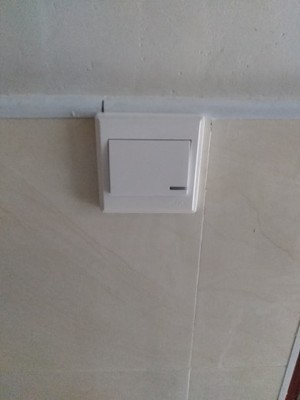switch: (102, 130, 194, 199)
